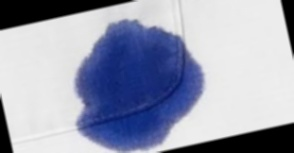ink: (69, 21, 199, 145)
